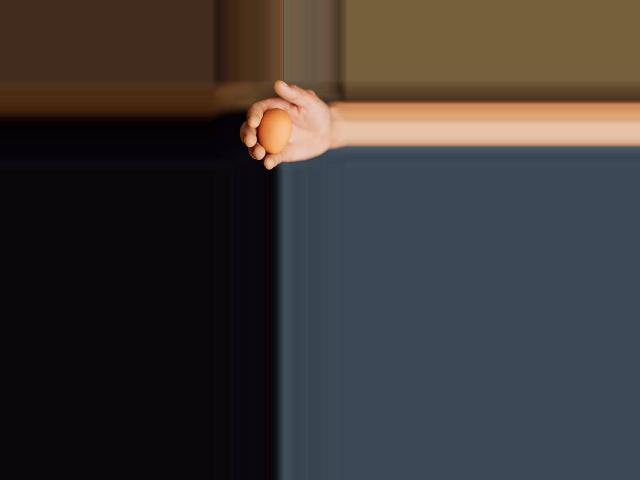egg: (259, 109, 291, 154)
